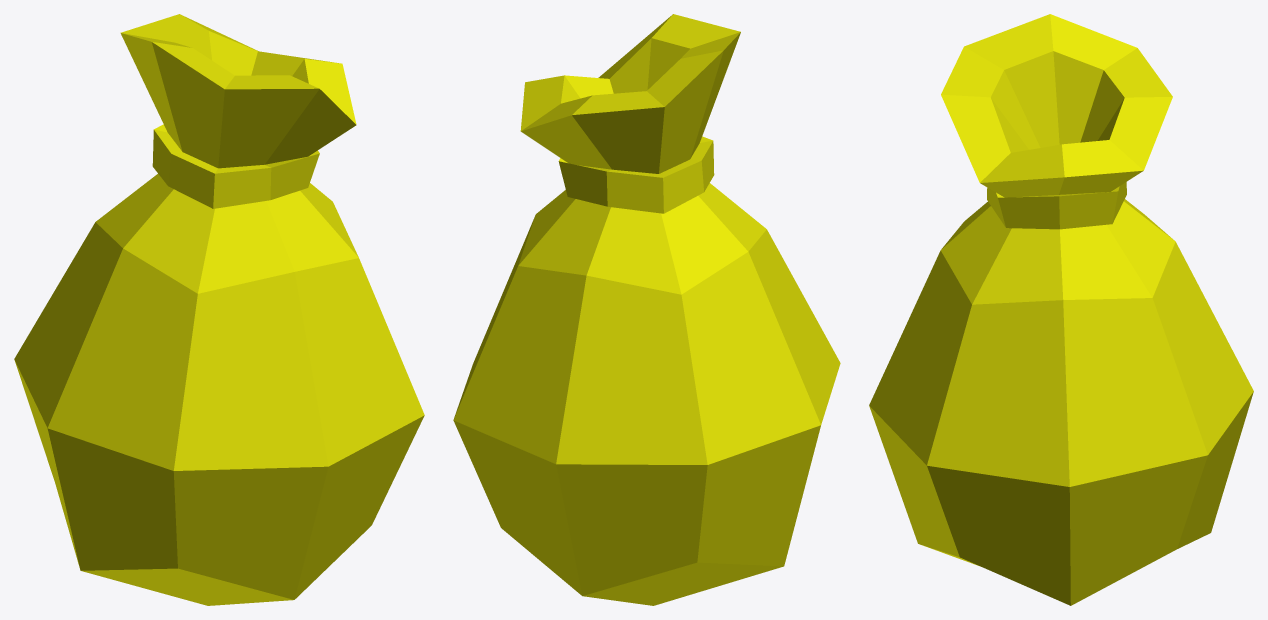
File: SM_Prop_Pouch_Bag_01.glb
3 views of the same model, side by side, from view 1: azimuth 30°, elevation 25°; view 2: azimuth 150°, elevation 25°; view 3: azimuth 270°, elevation 25° (orthographic). The views are drawn at different scales.
Visible parts, largest first — view 1: SM_Prop_Pouch_Bag_01; view 2: SM_Prop_Pouch_Bag_01; view 3: SM_Prop_Pouch_Bag_01.
Part boxes in pixels (x1,y1,x2,y2): SM_Prop_Pouch_Bag_01: (14,14,424,605); SM_Prop_Pouch_Bag_01: (453,14,840,605); SM_Prop_Pouch_Bag_01: (869,14,1253,605).
Bounding box in the file's own units: 0.1314 × 0.2088 × 0.1315.
